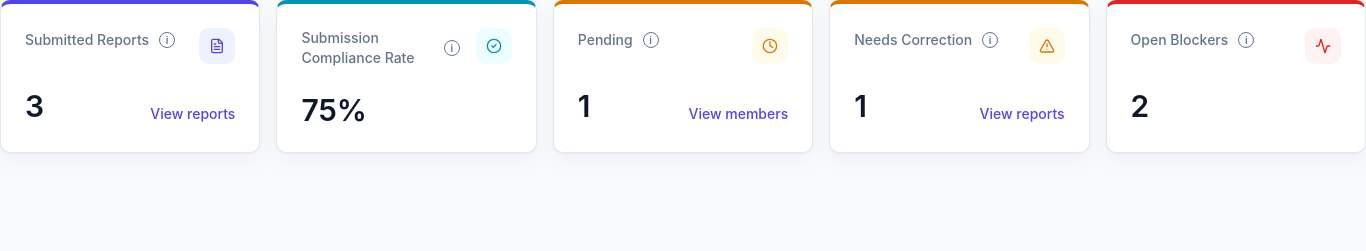
dashboard components › shows accessible help content for dashboard metrics
This screenshot has width=1366, height=251.
Click the button named "About Pending" at (651, 40), box [639,28,663,52]
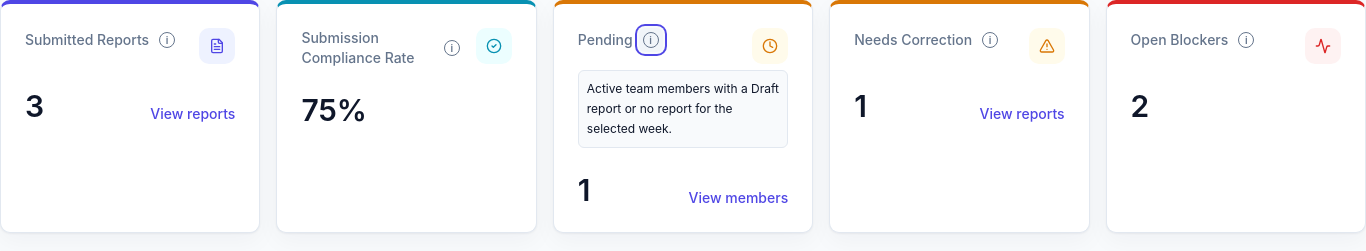
Now the text "Active team members with a Draft report or no report for the selected week." is shown, box [578,70,788,148]
